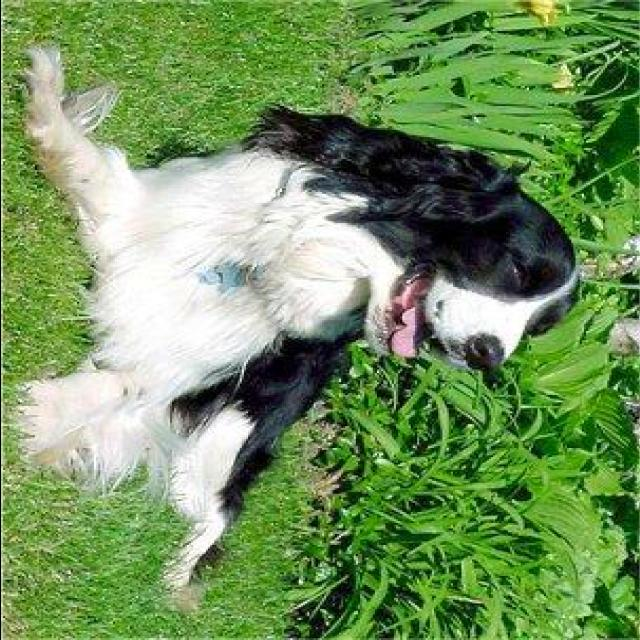husky: (15, 39, 581, 610)
